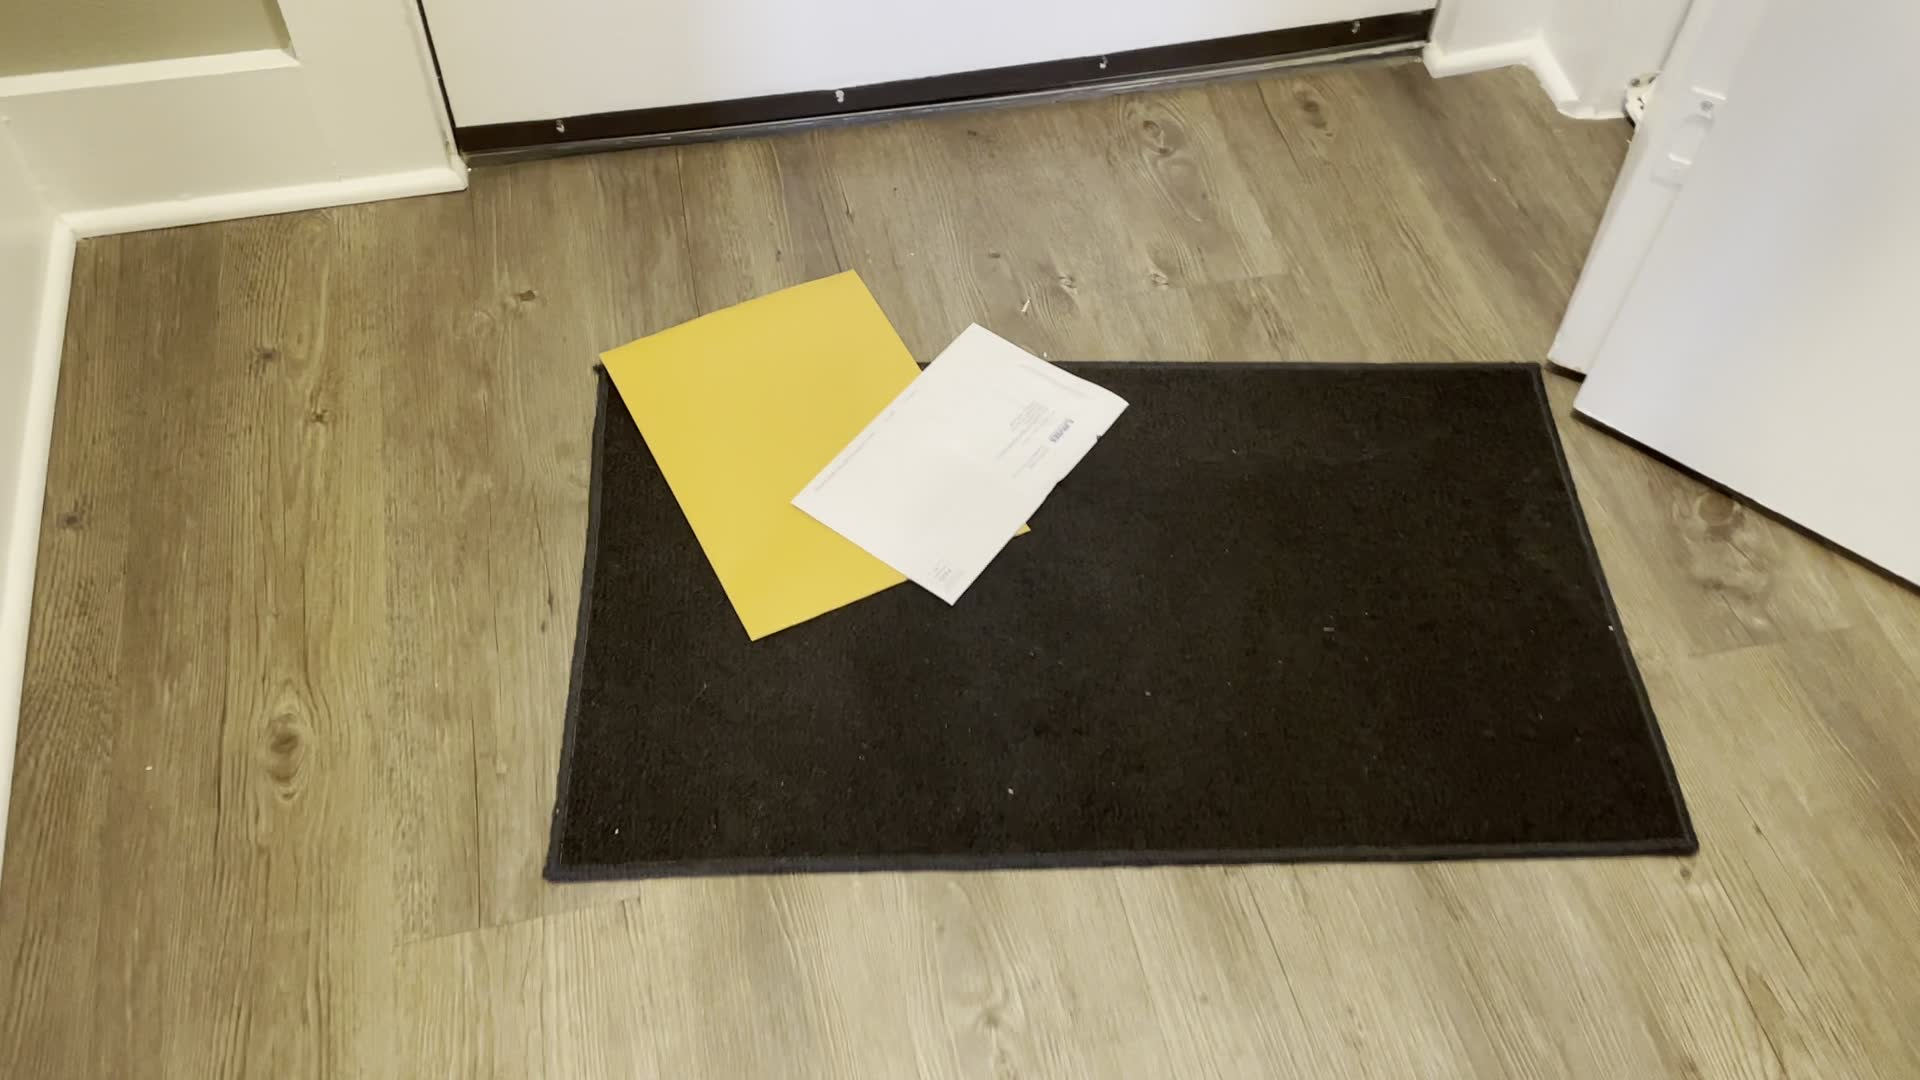envelope: (589, 265, 913, 640), (789, 318, 1138, 612)
